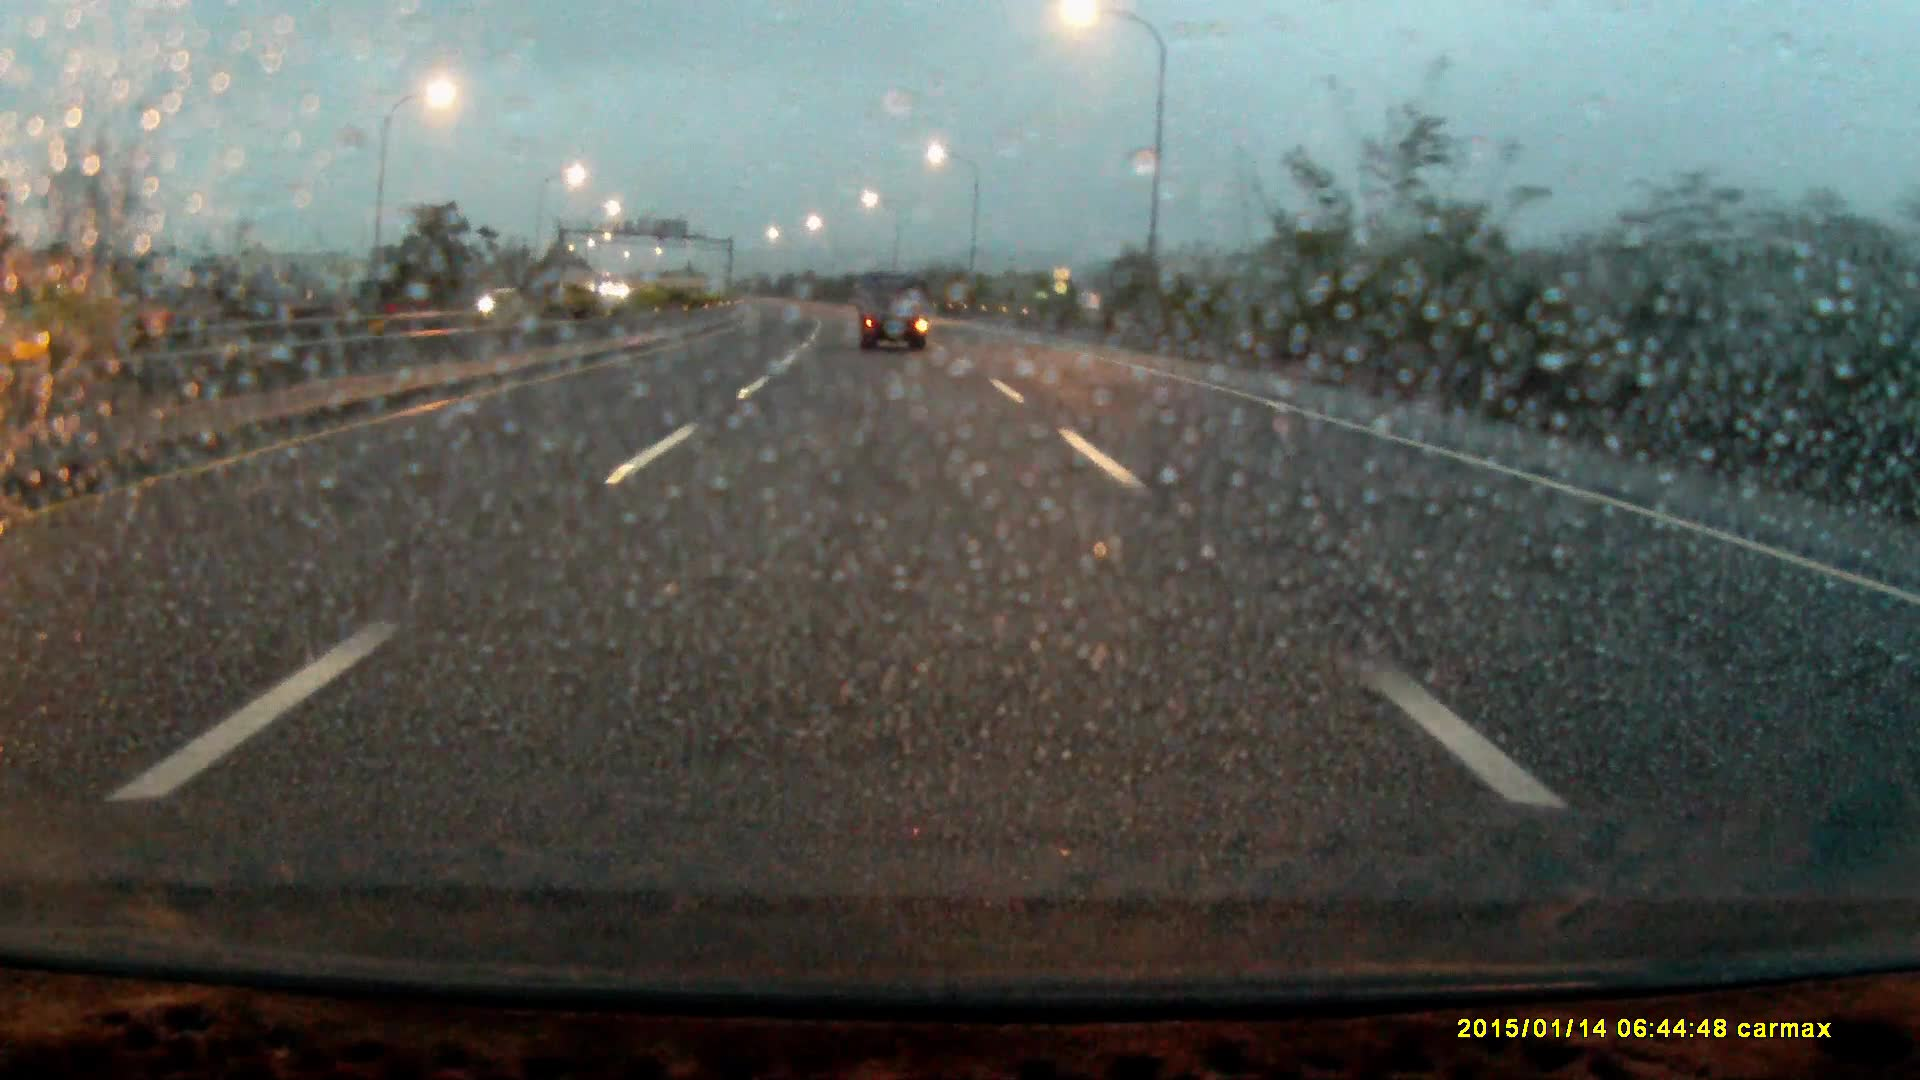vehicle: (857, 272, 928, 352), (476, 285, 541, 320)
